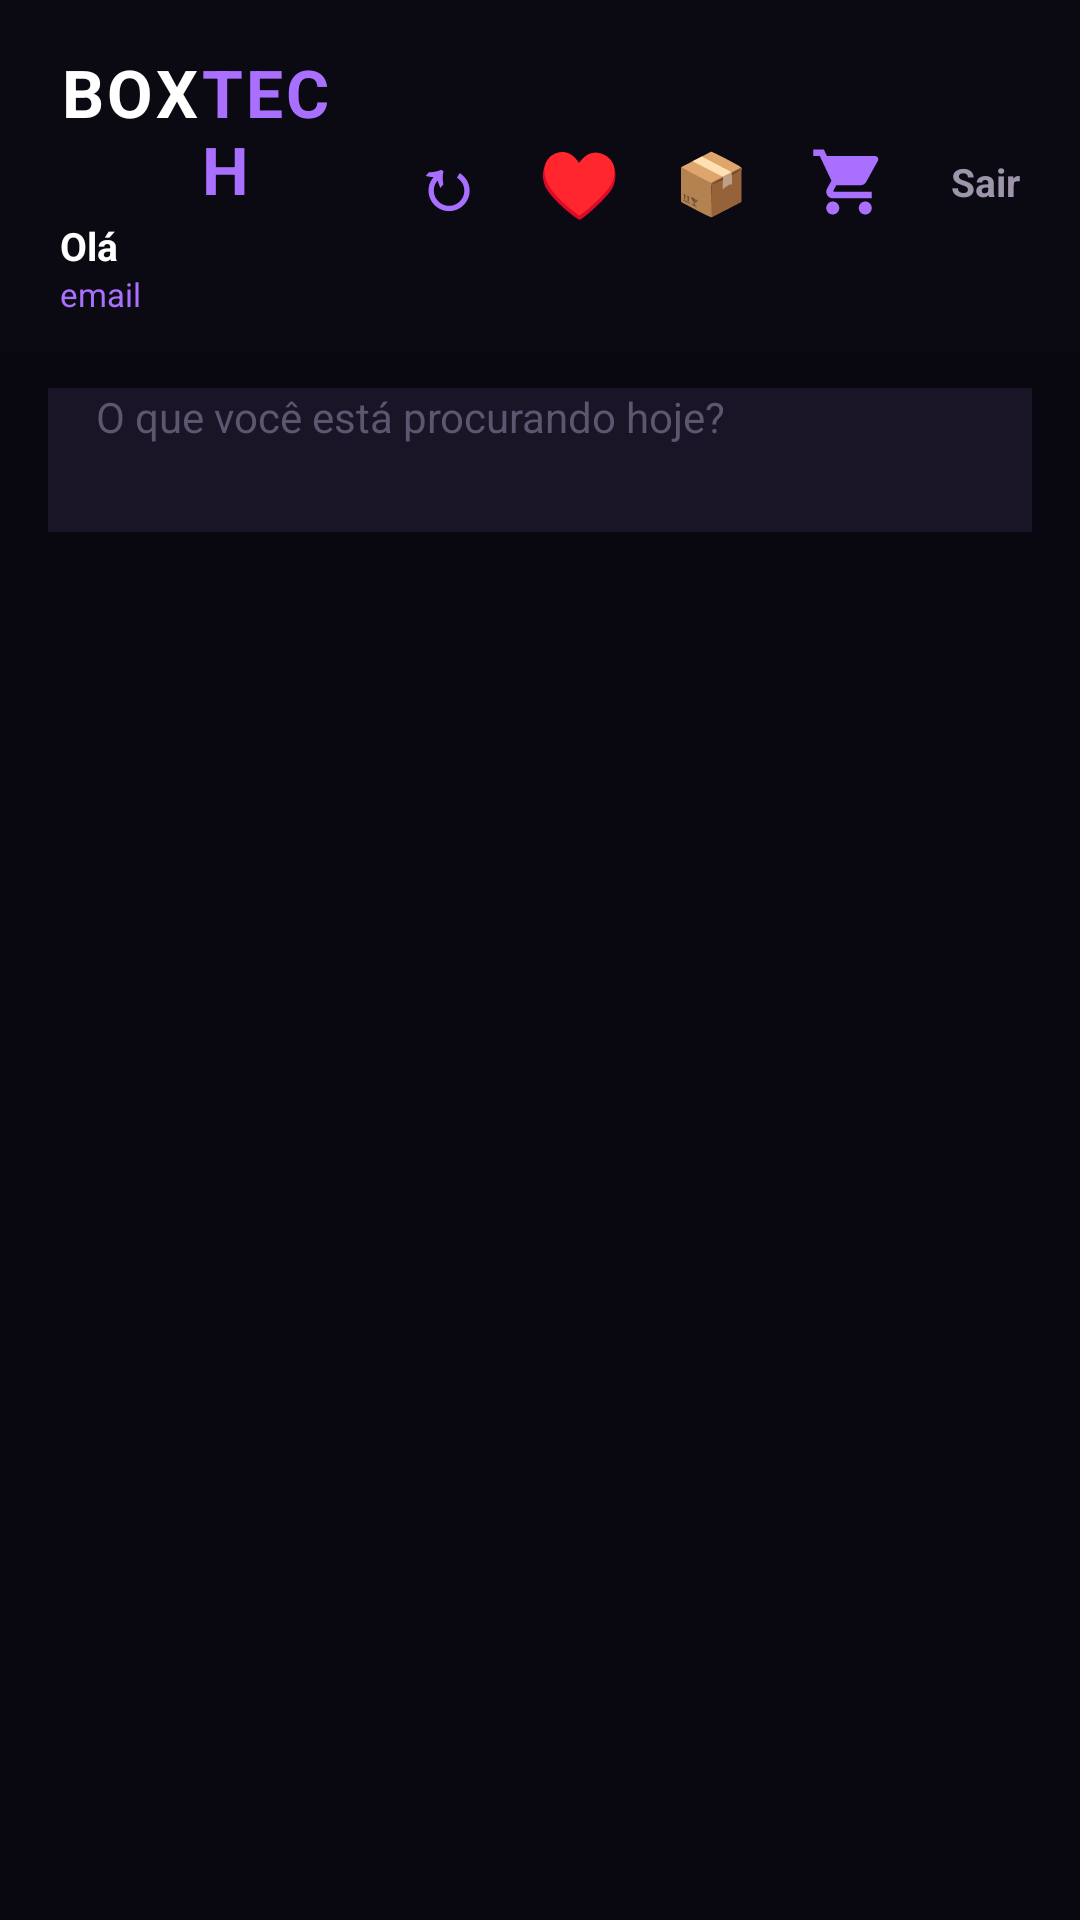

Icon bounding boxes for this 1080w x 1920h phone screenshot, format (x1, y1, x2, y2):
Carrinho: (813, 149, 879, 215)
